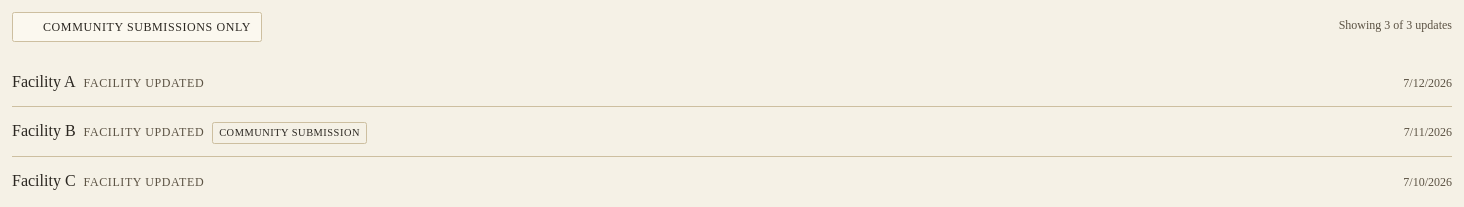
CommunityFilter › sets the container attribute, flips aria-pressed and shows the community count when pressed
Click the button "Community submissions only" at (137, 27), box [12,12,262,42]
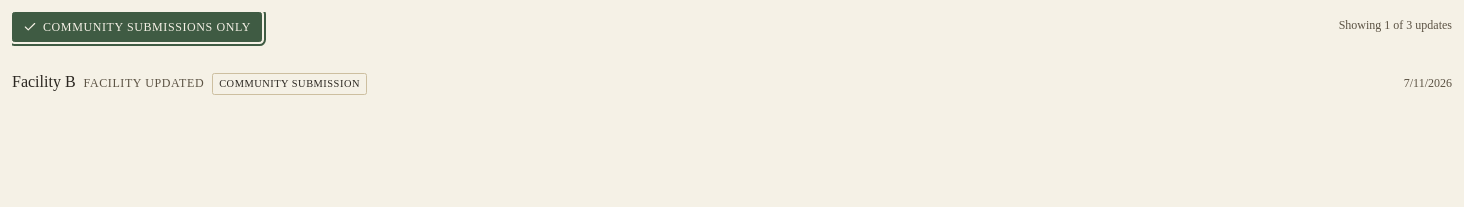
Expected: the text "Showing 1 of 3 updates" is shown, [1339,17,1452,37]
